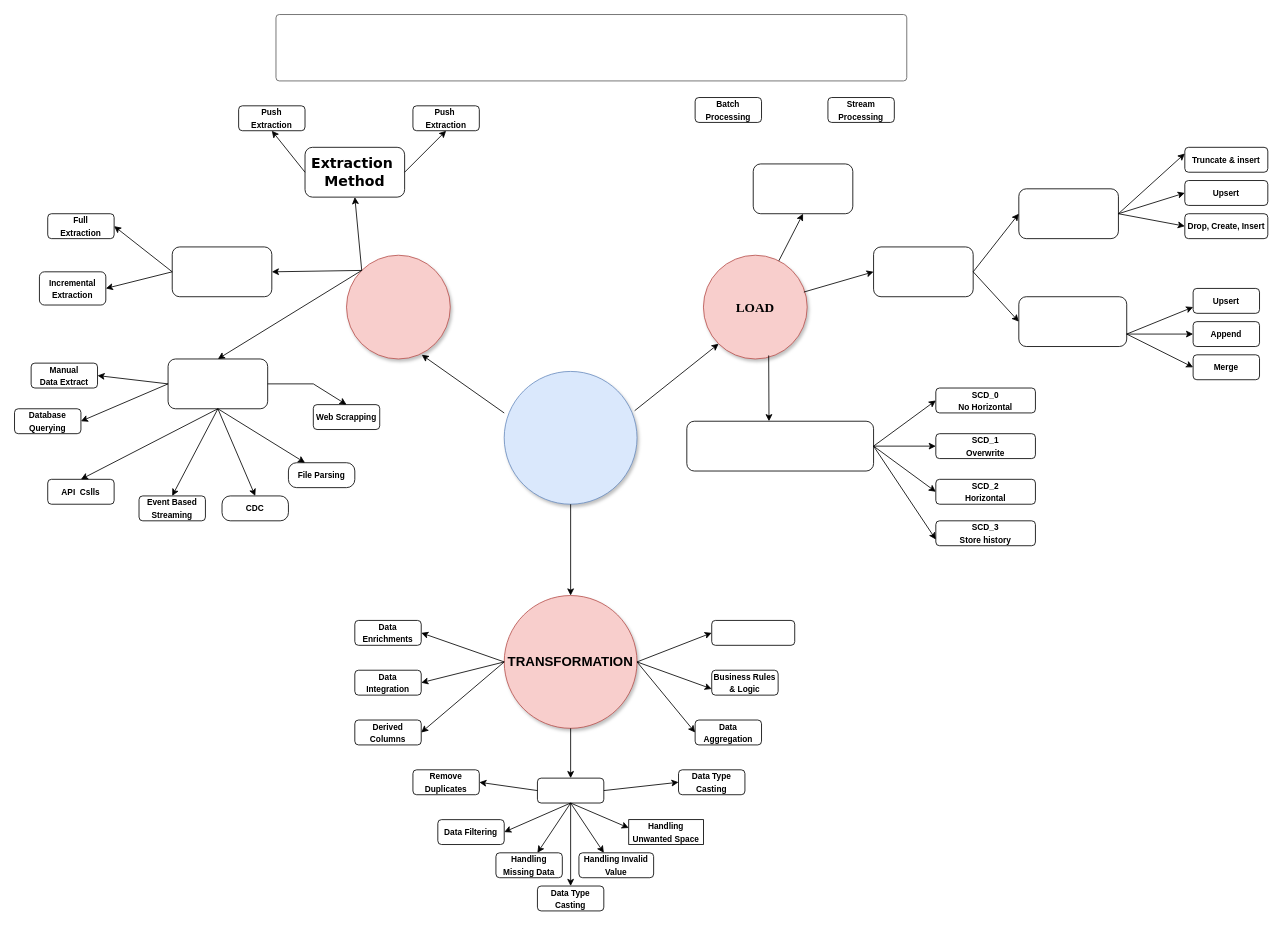
Image size: 1282x925. Some labels were removed from this diagram. Each missing label, with the centre of its shape:
Data Cleansing: the point at 570,790
Data Normalization & Standardization: the point at 753,632
ETL: the point at 571,438
ETL Methods: the point at 591,47
Extract Techniques: the point at 217,383
Extract Types: the point at 221,271
EXTRACTION: the point at 398,308
Full Load: the point at 1068,213
Incremental Load: the point at 1072,321
Load Method: the point at 923,271
Processing Type: the point at 802,188
Slowly Changing Dimensions (SCD): the point at 780,445
